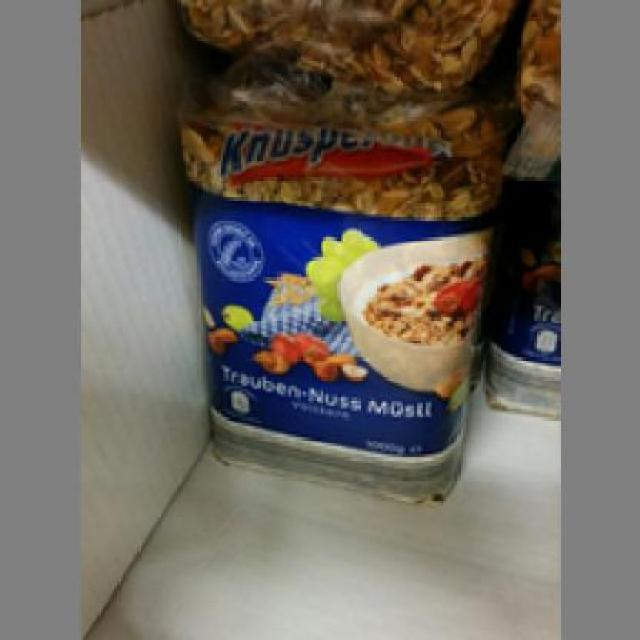Cereal: (172, 106, 494, 506)
